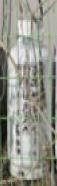cylinder: (1, 1, 57, 186)
